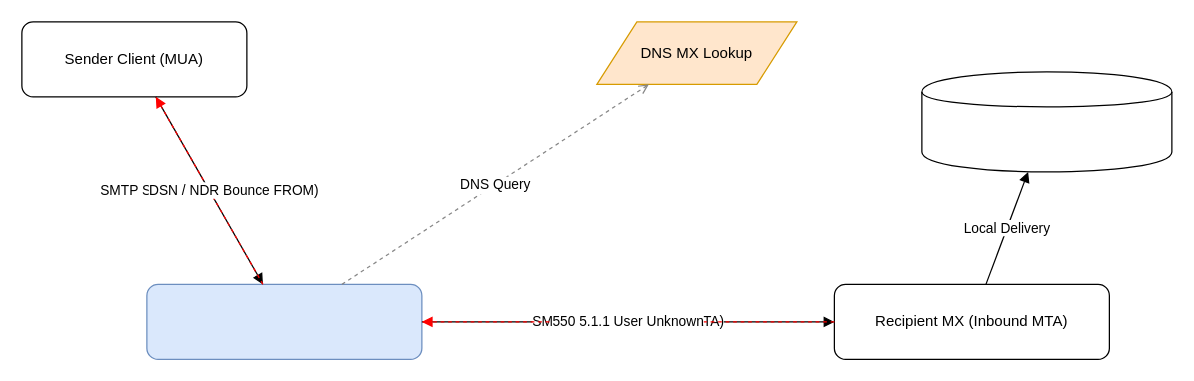
Some shapes in this 1194 by 381 pixel diagram are drawn without their labels. The shapes that lost their labels are listed below. From the top down, each one's centre as x and y in pixels, then its label:
the point at 1046,121: Recipient Mailbox (MDA)
the point at 284,321: ADN Mail Server (MSA/MTA)
